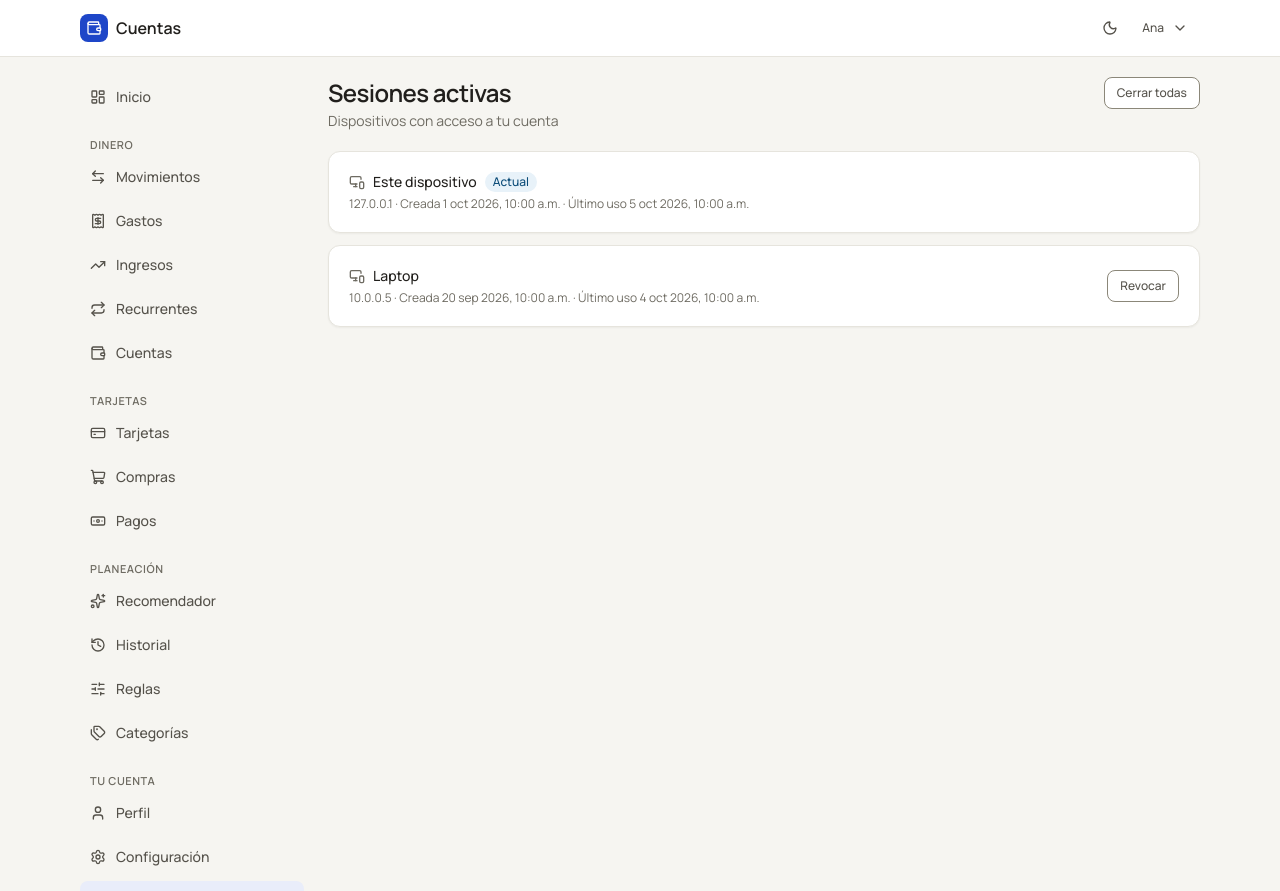
it: sesiones activas › revoca una sesión con confirmación
Expected: the text "Laptop" is shown, [349,266,419,285]
Expected: the text "Este dispositivo" is shown, [373,172,477,191]
Click the button "Revocar" at (1143, 286), box [1107,270,1179,302]
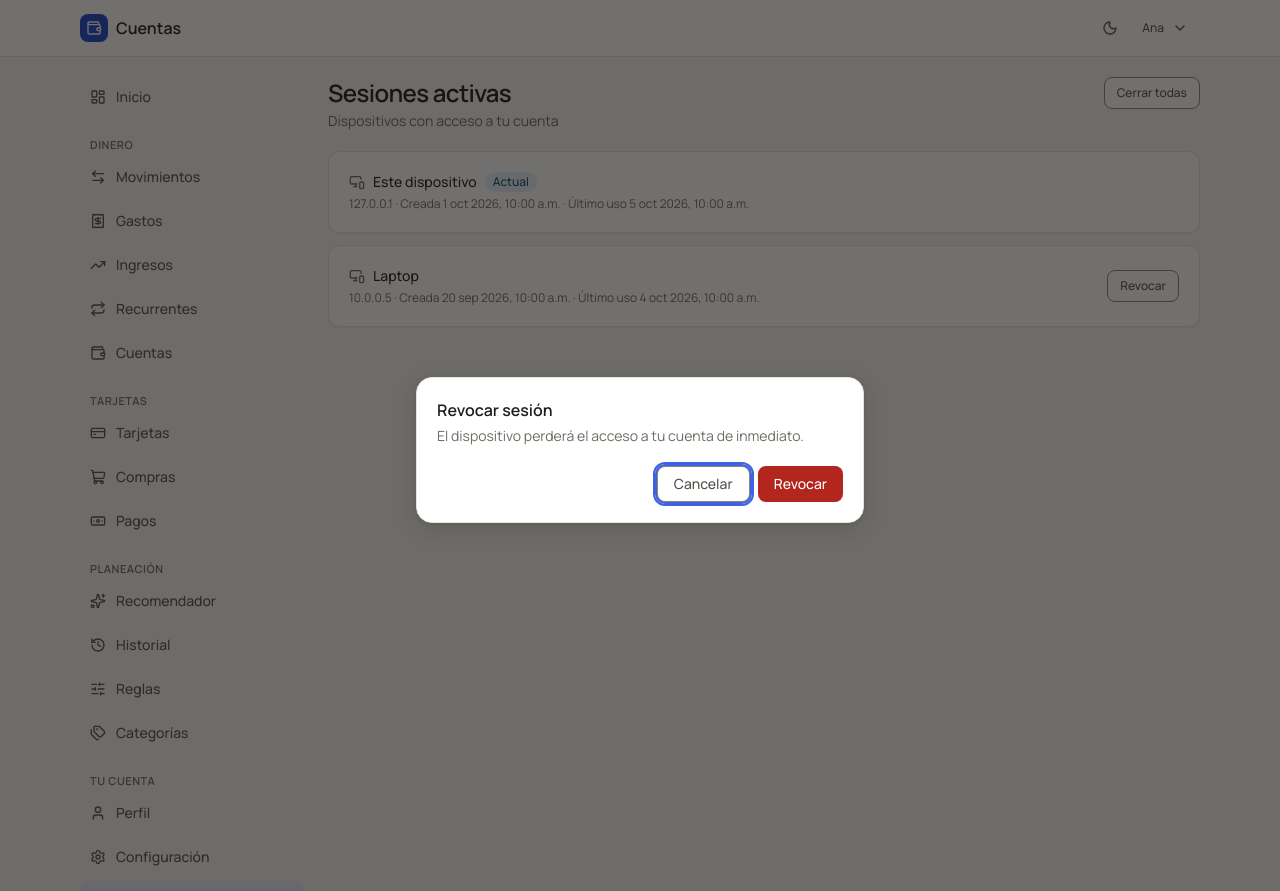
Click the button "Revocar" at (800, 484), box [758,466,843,502]
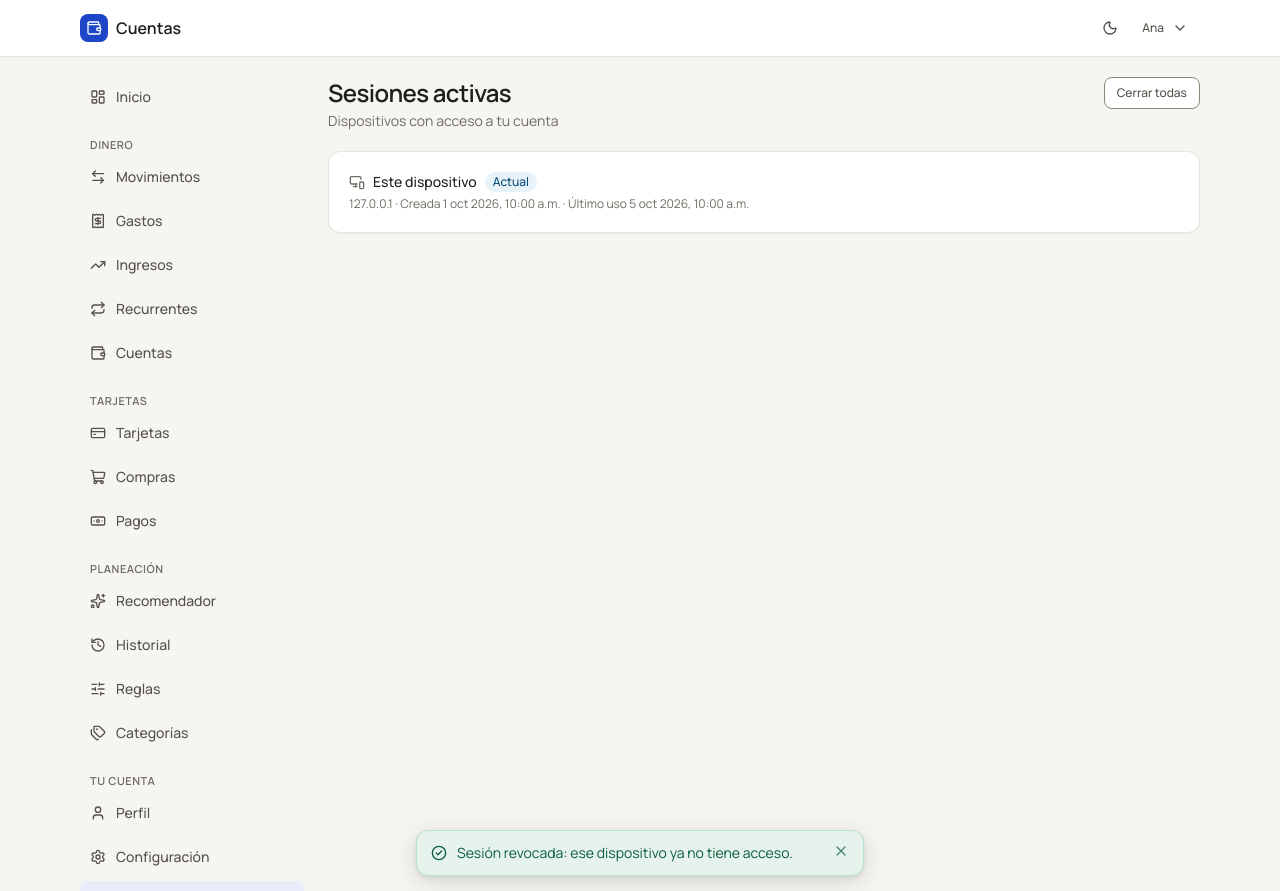
Expected: the text "Laptop" is gone
